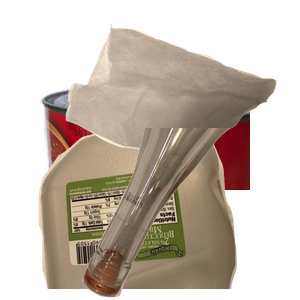glass: (80, 128, 300, 300)
metal: (37, 81, 277, 261)
plastic: (36, 120, 265, 300)
trash: (63, 21, 300, 172)
